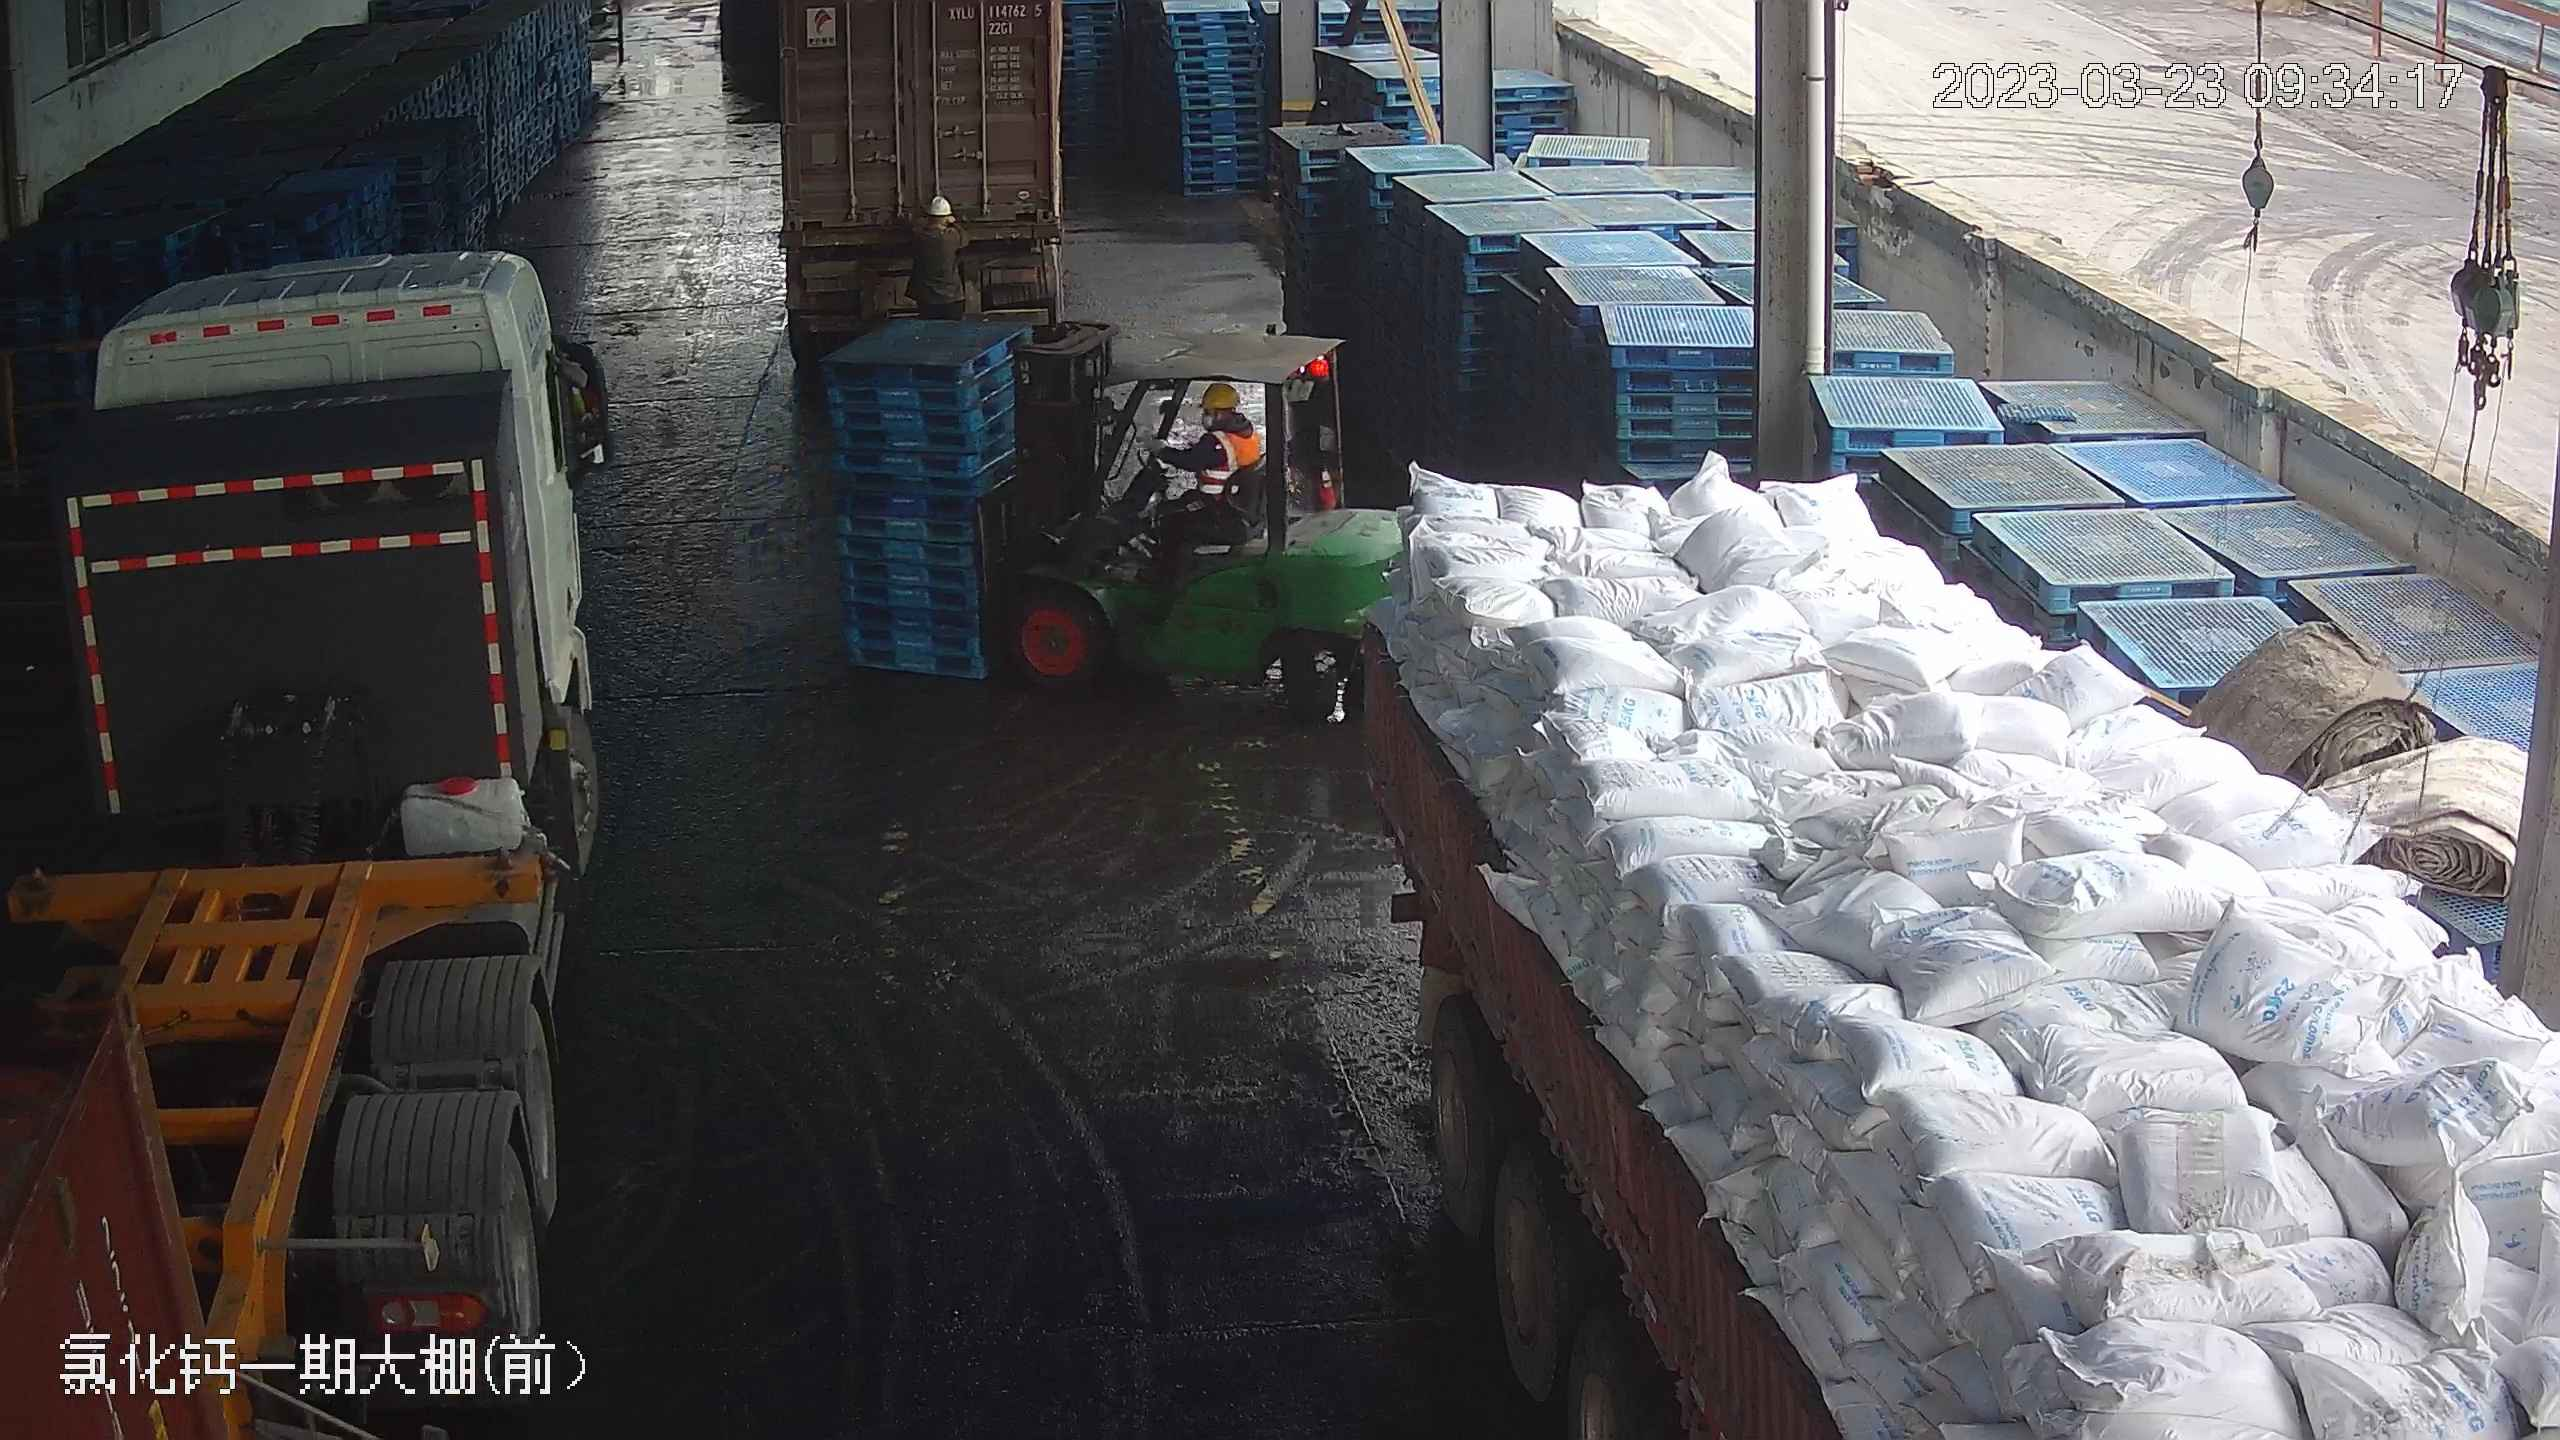head: (1186, 382, 1261, 465), (913, 189, 965, 265)
helmet: (1200, 382, 1241, 409), (921, 199, 964, 222)
people: (1122, 379, 1261, 552), (904, 180, 978, 328)
truck: (1263, 435, 2544, 1438), (2, 221, 611, 1426), (720, 1, 1090, 326)
